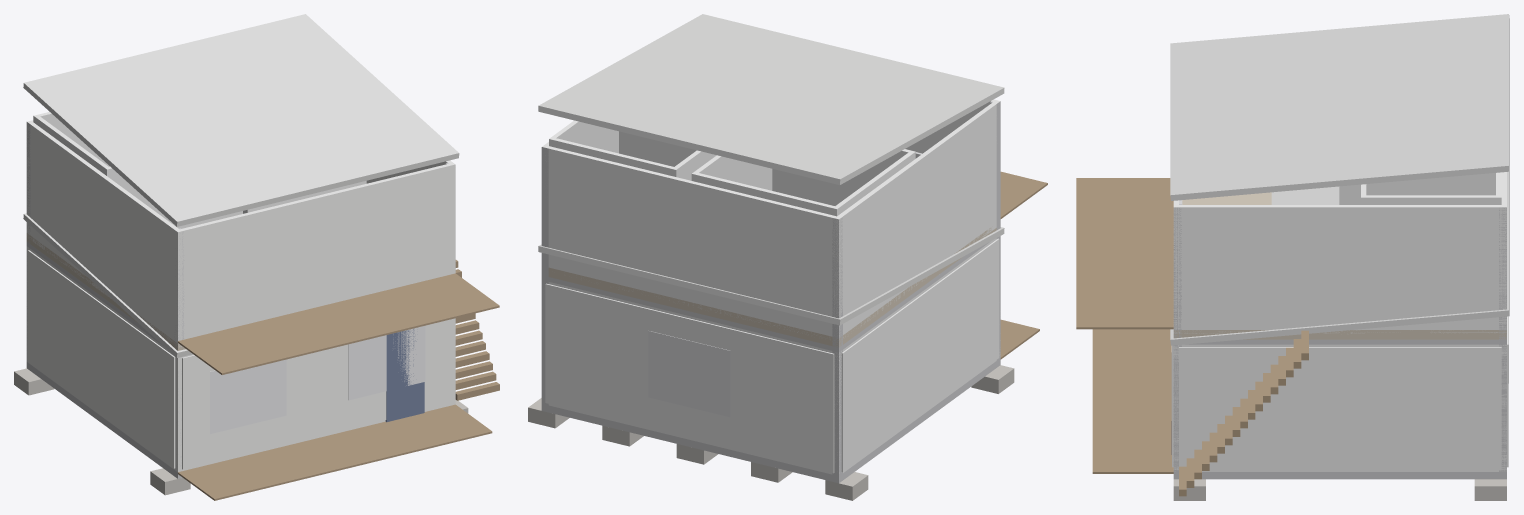
The model's file is Duplex-20-Premium+SlopingRoof-LOD1.glb.
The picture shows the model from 3 angles, left to right: view 1: azimuth 30°, elevation 25°; view 2: azimuth 150°, elevation 25°; view 3: azimuth 270°, elevation 25°; orthographic projection. The views are drawn at different scales.
Parts seen in each view (by area): view 1: RoofSlopingUpgrade.001, ExteriorShellUpper, ExteriorPanelsPremium, BalconyUpper, BalconyGround, WindowsLargeUpgrade, StaircaseExternal, EntryDoor, ExteriorShell, BedroomUpper, FoundationBlocks, RoofSlopingUpgrade (+4 smaller); view 2: ExteriorShellUpper, ExteriorPanelsPremium, RoofSlopingUpgrade.001, BedroomUpper, WindowsLargeUpgrade, VerticalStructure, StudyUpper, FloorUpper, FoundationBlocks, RoofSlopingUpgrade, BaseFrame, ExteriorShell (+3 smaller); view 3: RoofSlopingUpgrade.001, ExteriorShellUpper, ExteriorPanelsPremium, BalconyUpper, BalconyGround, RoofSlopingUpgrade, StaircaseExternal, StudyUpper, FloorUpper, VerticalStructure, ExteriorShell, BaseFrame (+2 smaller).
Part boxes in pixels (x1,y1,x2,y2): RoofSlopingUpgrade.001: [23, 14, 459, 226]; ExteriorShellUpper: [26, 120, 455, 347]; ExteriorPanelsPremium: [28, 250, 452, 469]; BalconyUpper: [178, 273, 499, 374]; BalconyGround: [178, 404, 492, 500]; WindowsLargeUpgrade: [210, 326, 425, 434]; StaircaseExternal: [455, 260, 499, 400]; EntryDoor: [385, 329, 424, 422]; ExteriorShell: [26, 246, 455, 471]; BedroomUpper: [33, 112, 242, 228]; FoundationBlocks: [14, 368, 468, 495]; RoofSlopingUpgrade: [23, 213, 192, 357]; ExteriorShellUpper: [542, 99, 1000, 339]; ExteriorPanelsPremium: [545, 238, 999, 473]; RoofSlopingUpgrade.001: [538, 14, 1004, 184]; BedroomUpper: [691, 149, 915, 216]; WindowsLargeUpgrade: [648, 331, 730, 417]; VerticalStructure: [541, 101, 1000, 475]; StudyUpper: [549, 120, 716, 180]; FloorUpper: [548, 228, 996, 347]; FoundationBlocks: [528, 365, 1014, 500]; RoofSlopingUpgrade: [538, 227, 1004, 325]; BaseFrame: [541, 358, 1000, 483]; ExteriorShell: [548, 238, 1000, 474]; RoofSlopingUpgrade.001: [1170, 14, 1509, 200]; ExteriorShellUpper: [1173, 172, 1506, 333]; ExteriorPanelsPremium: [1172, 316, 1508, 470]; BalconyUpper: [1076, 178, 1173, 329]; BalconyGround: [1092, 329, 1173, 473]; RoofSlopingUpgrade: [1170, 171, 1509, 345]; StaircaseExternal: [1179, 330, 1308, 496]; StudyUpper: [1361, 172, 1501, 204]; FloorUpper: [1173, 192, 1506, 339]; VerticalStructure: [1173, 204, 1506, 471]; ExteriorShell: [1173, 344, 1506, 471]; BaseFrame: [1173, 472, 1506, 479].
Bounding box in the file's own units: 7.94 × 6.72 × 8.01.
